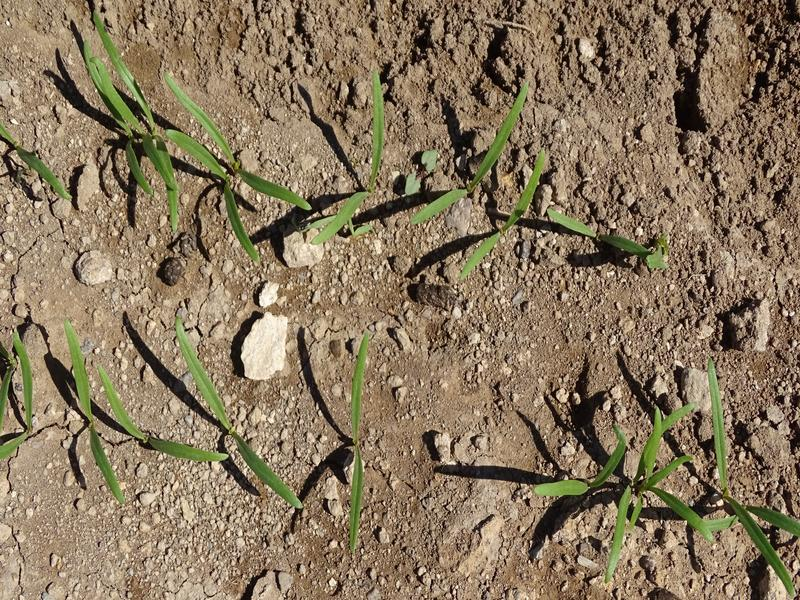Espinaca: (78, 13, 307, 265), (64, 313, 304, 519), (552, 380, 795, 580), (407, 85, 543, 284), (321, 74, 383, 244), (343, 332, 373, 556), (1, 127, 72, 203), (548, 204, 648, 256), (1, 320, 36, 457)
